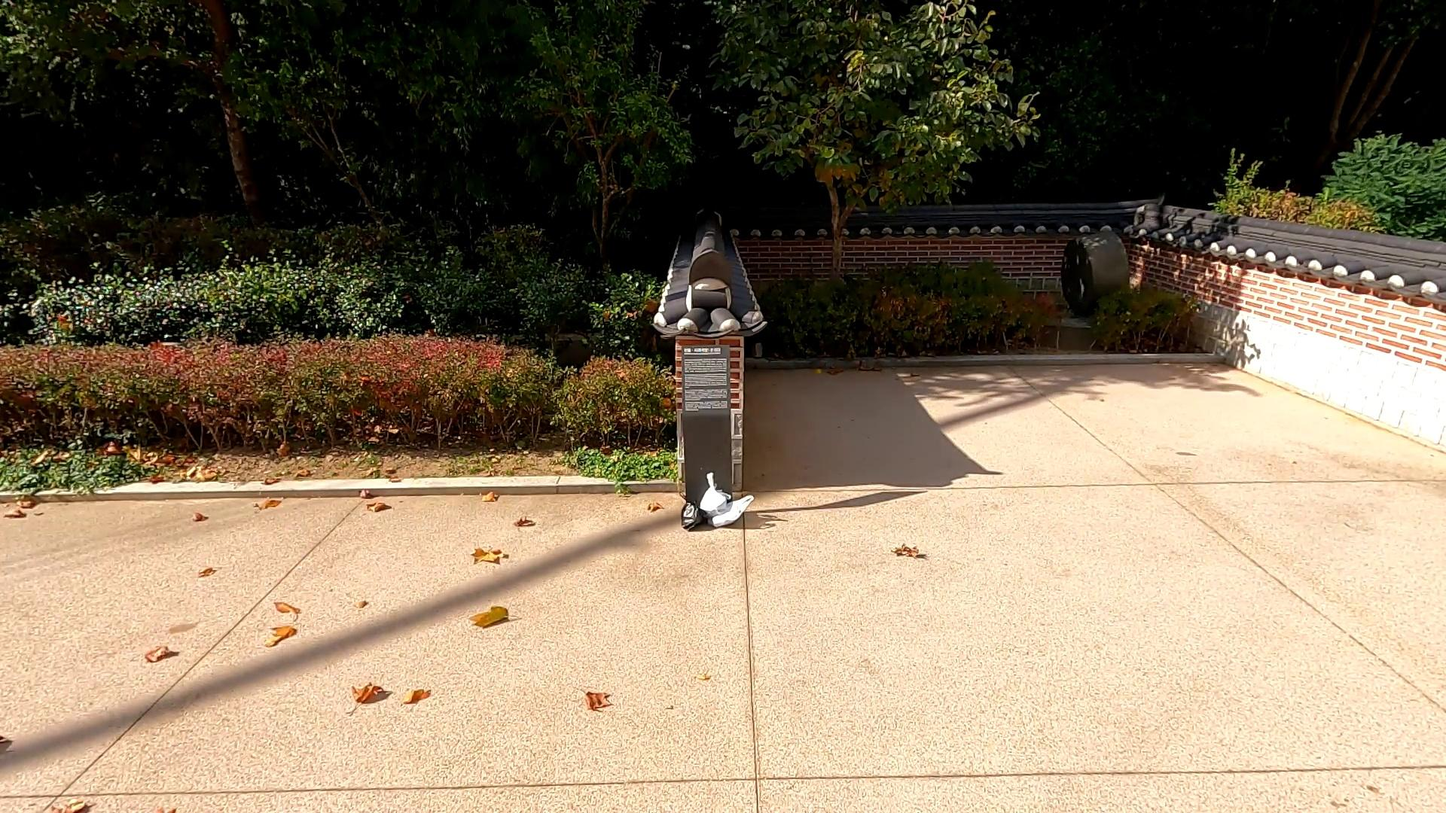trash: (699, 490, 757, 527), (693, 472, 732, 516), (675, 490, 708, 531)
